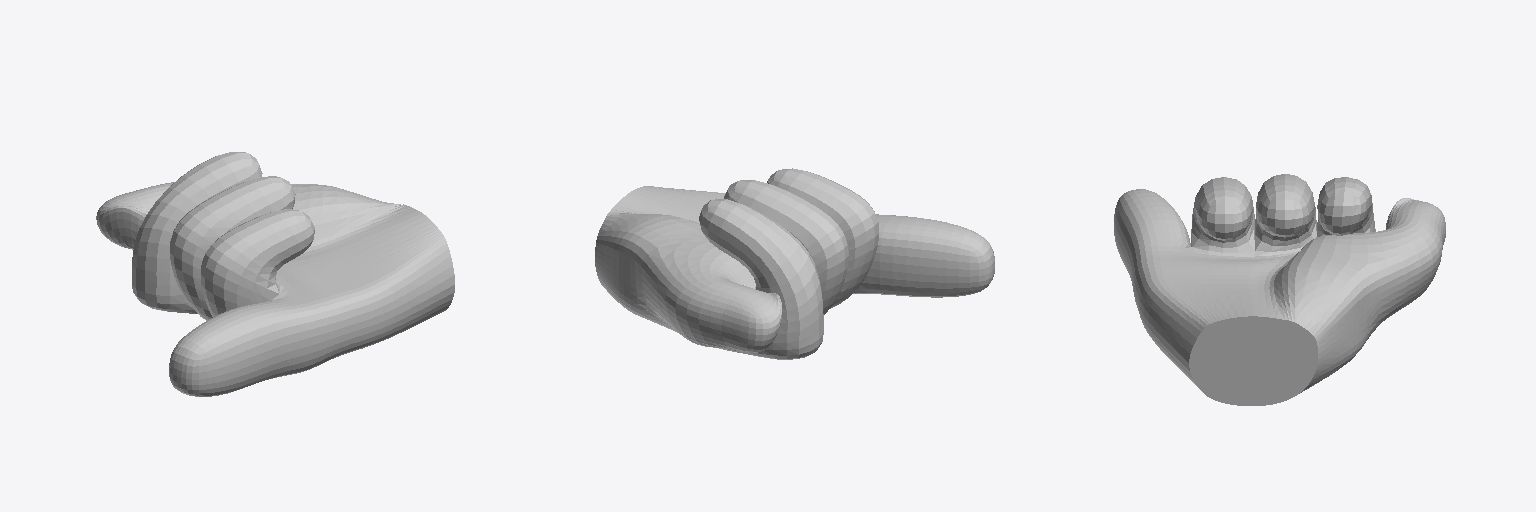
3 renders of one model, left to right at view 1: azimuth 30°, elevation 25°; view 2: azimuth 150°, elevation 25°; view 3: azimuth 270°, elevation 25°, orthographic.
Visible parts, largest first — view 1: I_Hand; view 2: I_Hand; view 3: I_Hand.
Part boxes in pixels (x1,y1,x2,y2): I_Hand: (96,152,454,396); I_Hand: (595,168,994,359); I_Hand: (1114,174,1445,405).
Bounding box in the file's own units: 145 × 67.99 × 136.